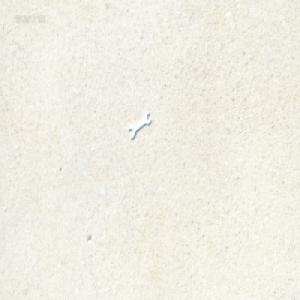Wrench: (130, 110, 152, 139)
